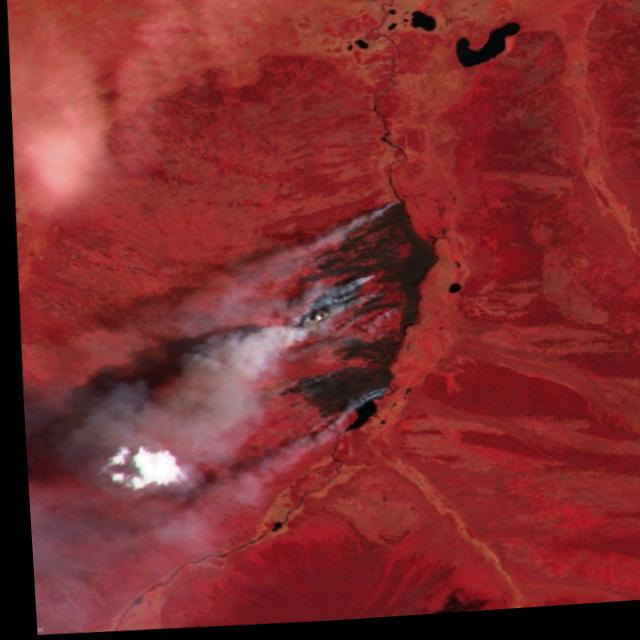fire: (253, 196, 411, 428)
